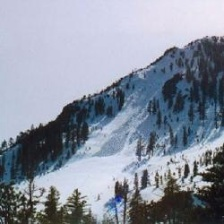neutral: (2, 15, 220, 224)
